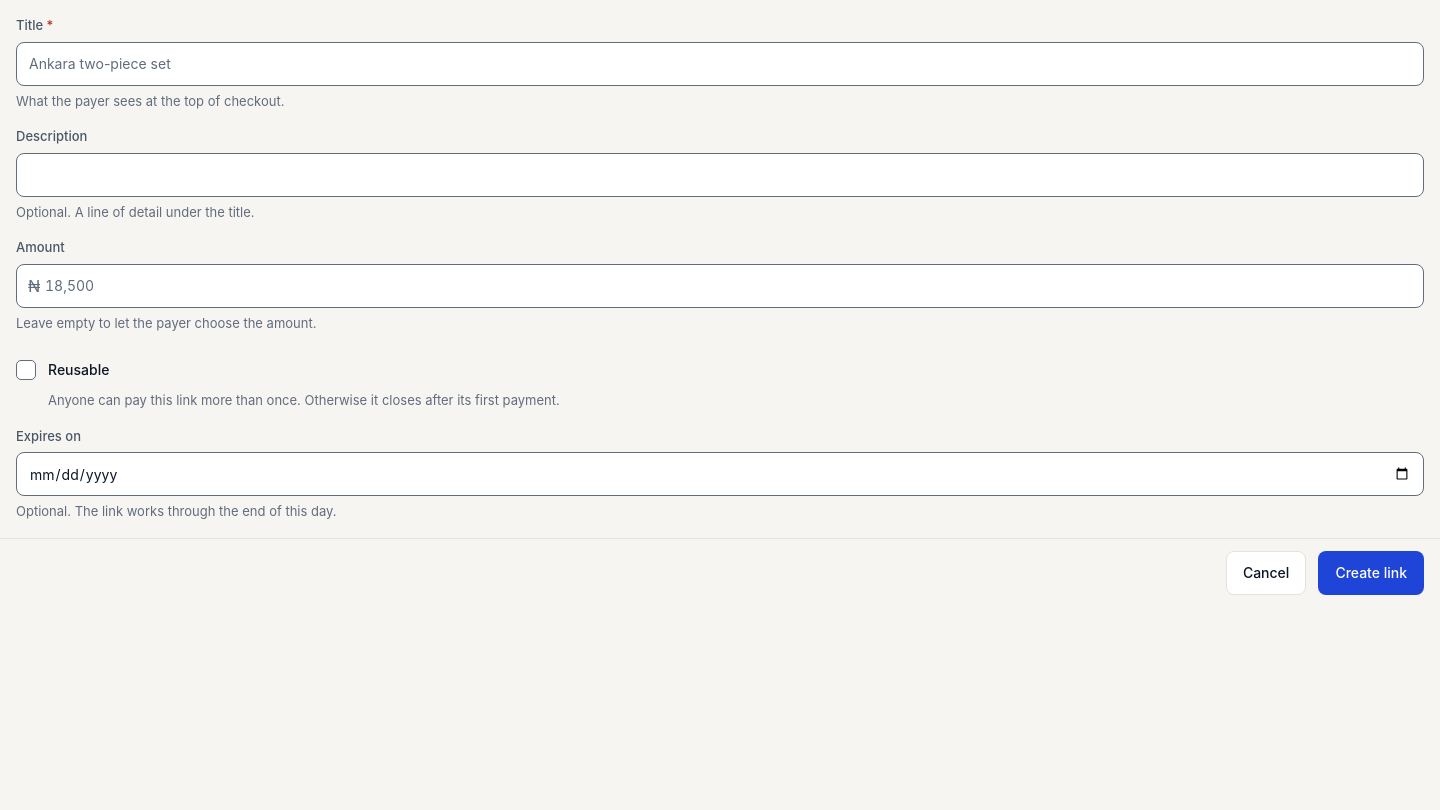
CreateLinkForm — Done when: validation errors are inline › rejects an out-of-range amount, naming the bounds
Step 1. Type "Ankara set" into the field labelled "Title" → (720, 64), box [16,42,1424,86]
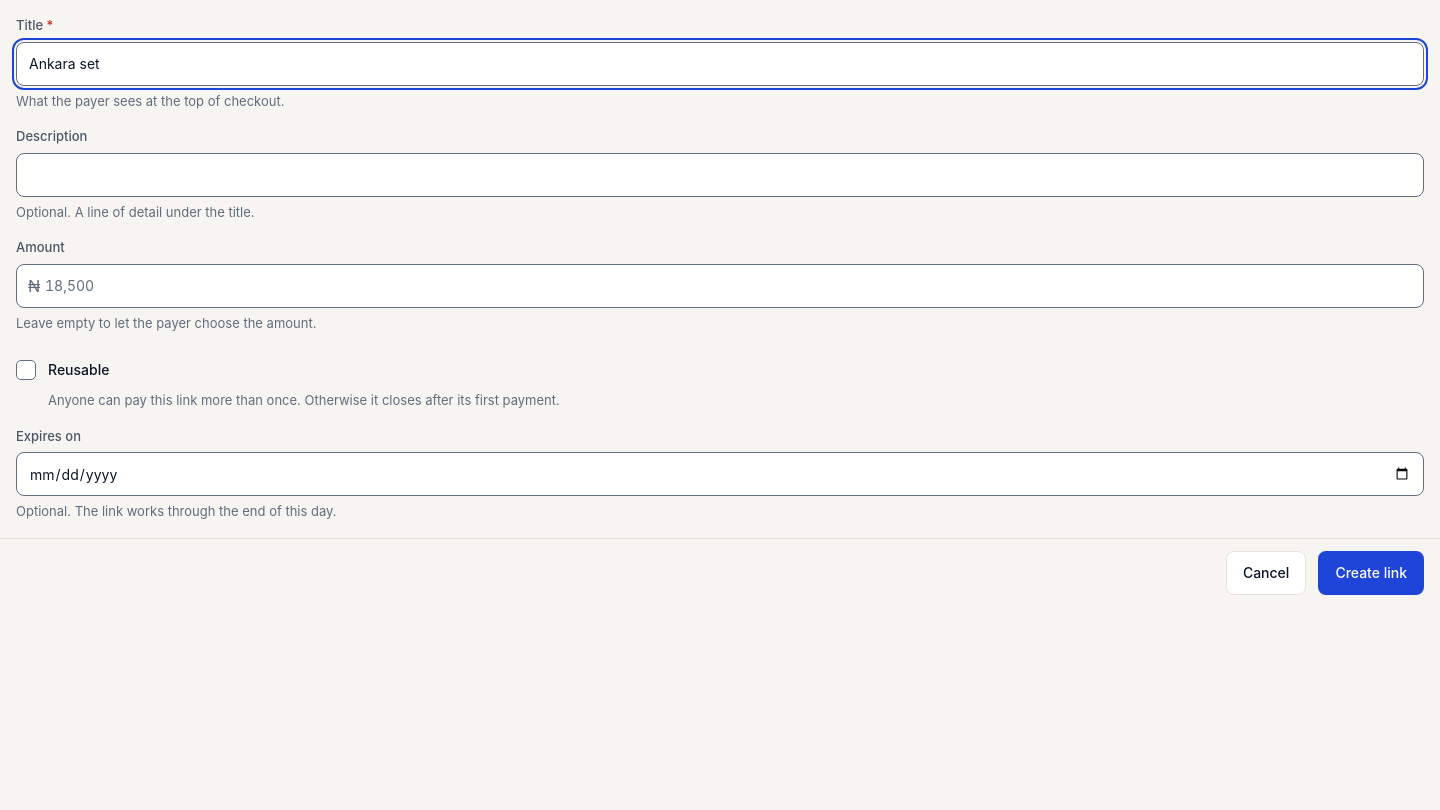
Step 2. Type "50" into the field labelled "Amount" → (720, 286), box [16,264,1424,308]
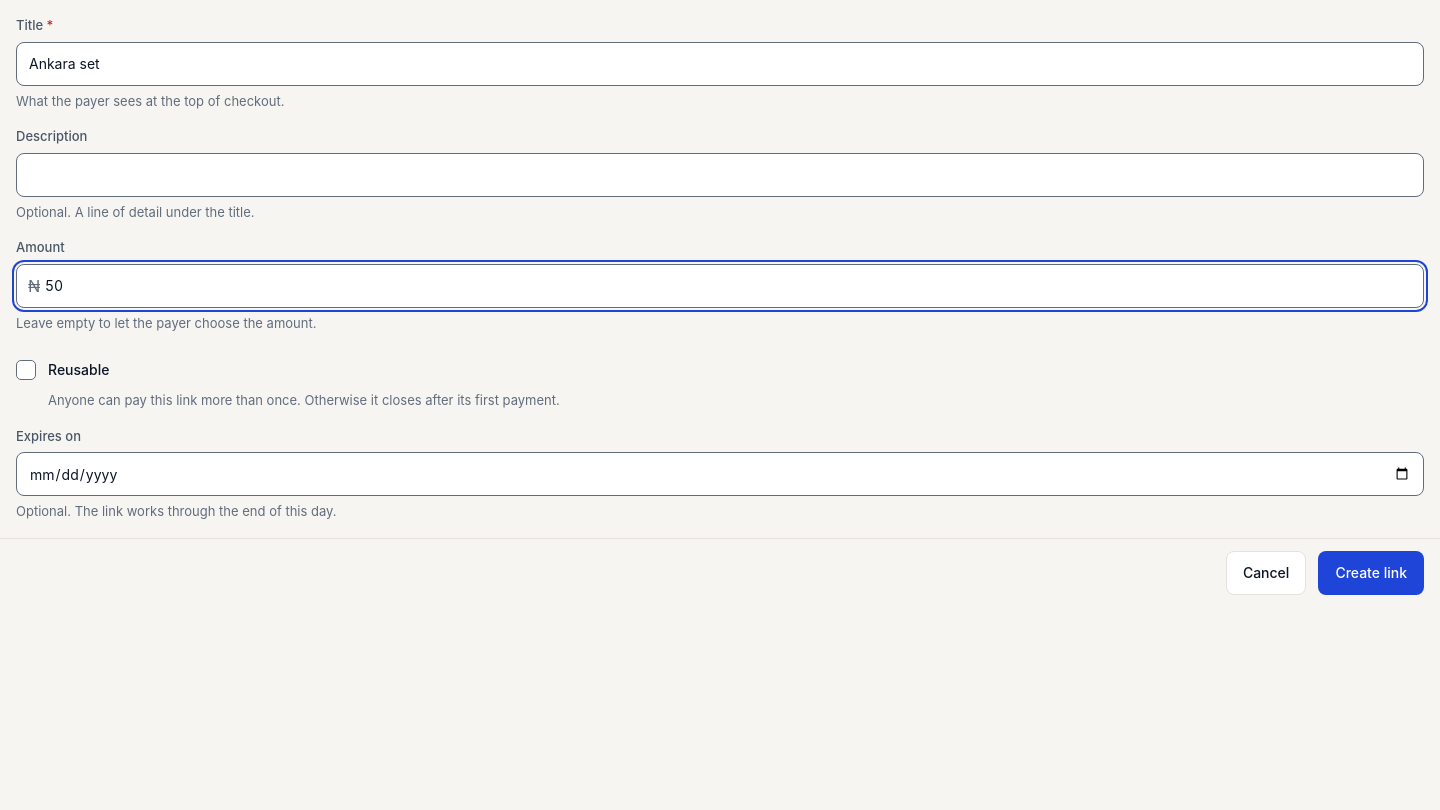
Step 3. Click the button "Create link" → (1371, 572), box [1318,550,1424,594]
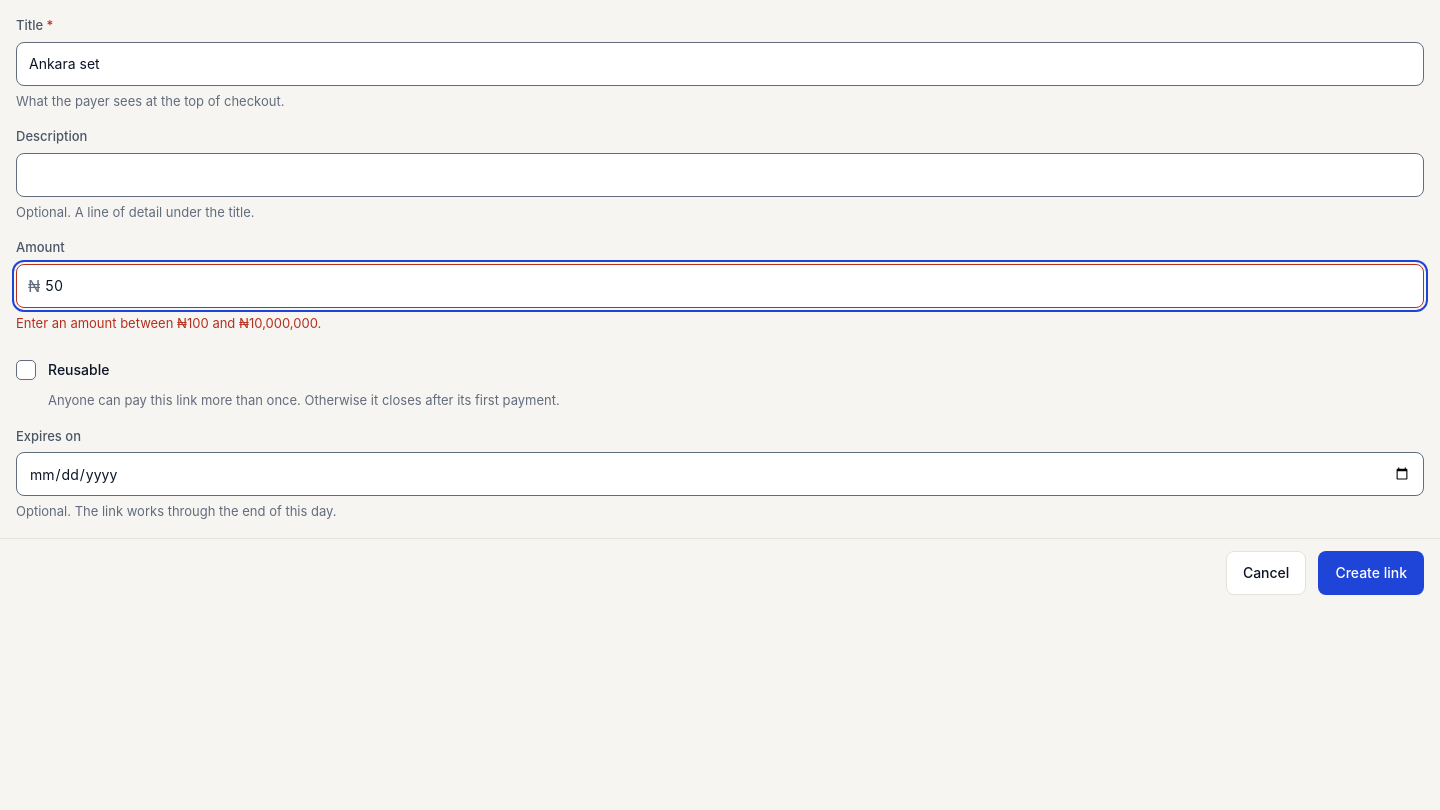
Now the text "Enter an amount between ₦100 and ₦10,000,000." is shown, box [16,314,321,330]
